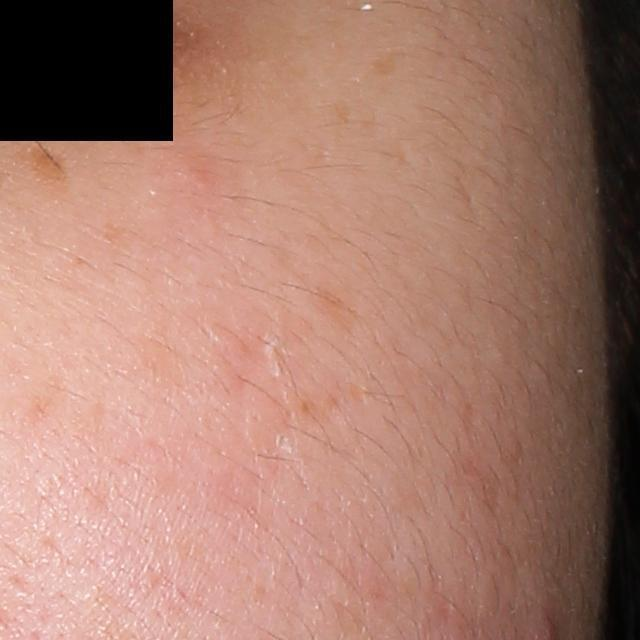melasma: (308, 286, 361, 336), (27, 144, 70, 185), (371, 47, 402, 76), (333, 98, 354, 124)
